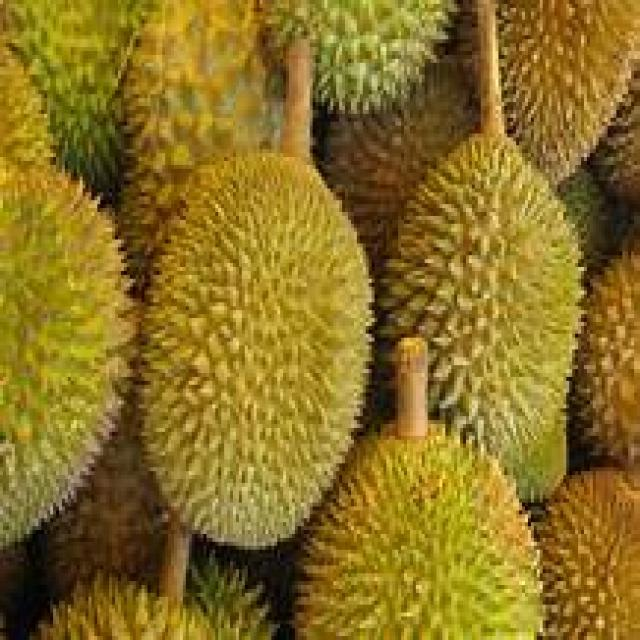mature: (142, 155, 371, 547)
